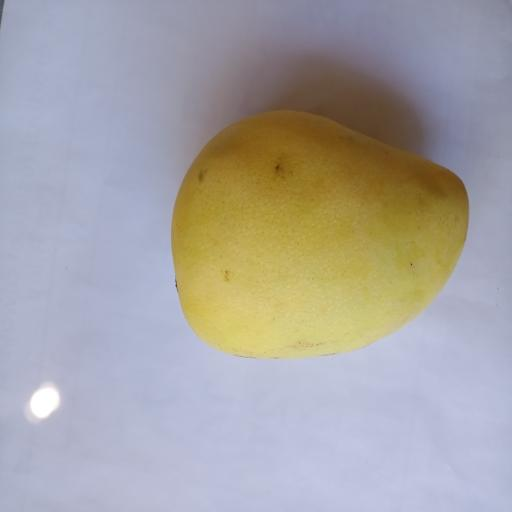mango-ripe: (157, 92, 482, 372)
